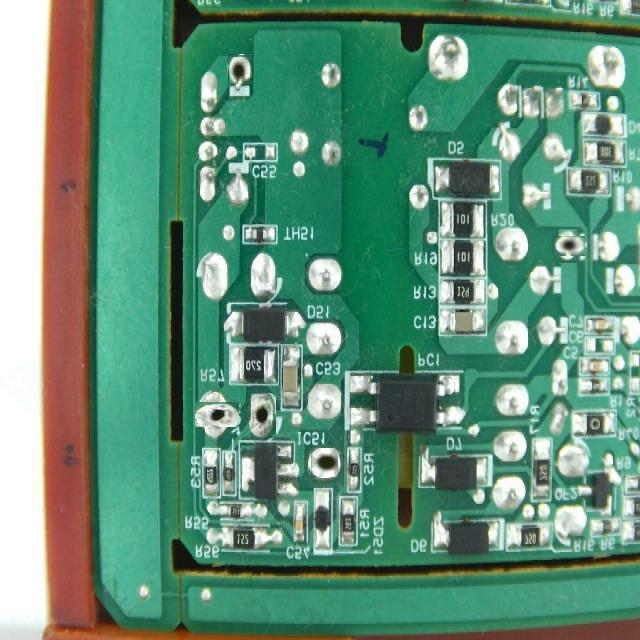damged: (252, 393, 278, 438), (200, 397, 234, 431), (310, 448, 339, 478), (554, 232, 582, 260), (228, 54, 252, 84)
